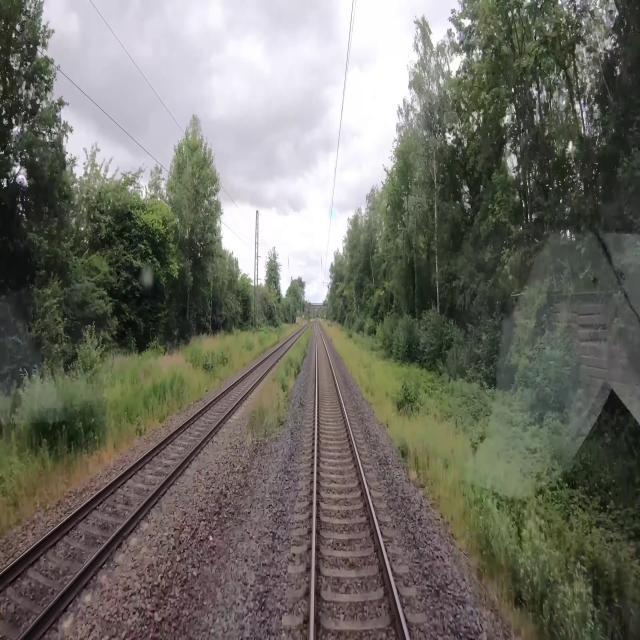Plant: (247, 323, 313, 442)
